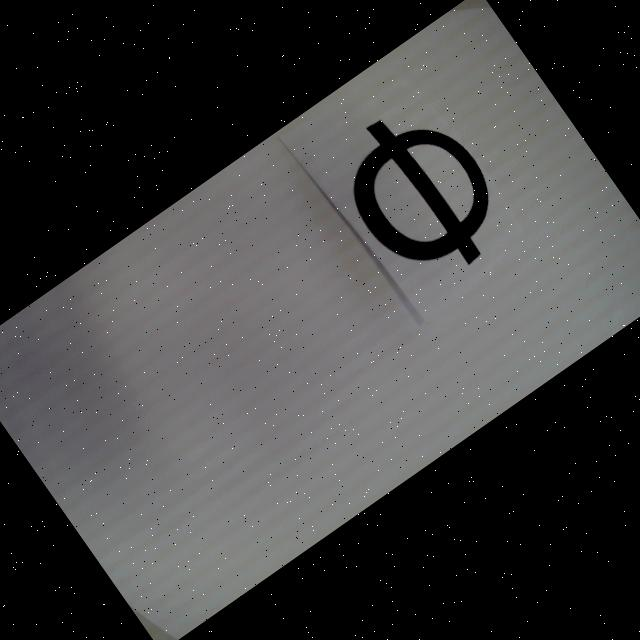PHI: (319, 86, 523, 302)
